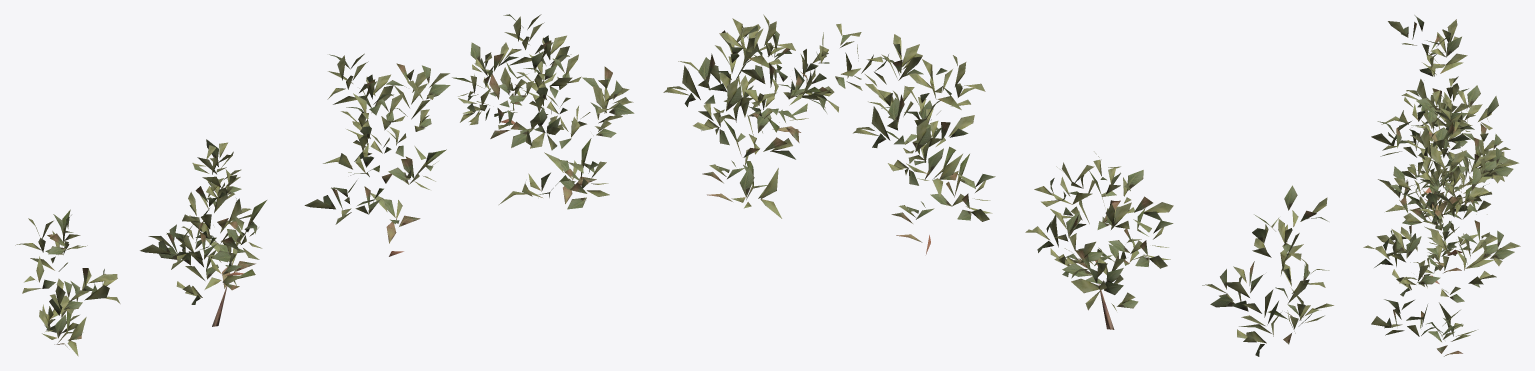
The model's file is shrub_04-low.glb.
The picture shows the model from 3 angles, left to right: view 1: azimuth 30°, elevation 25°; view 2: azimuth 150°, elevation 25°; view 3: azimuth 270°, elevation 25°; orthographic projection. The views are drawn at different scales.
Visible parts, largest first — view 1: shrub_04; view 2: shrub_04; view 3: shrub_04.
Part boxes in pixels (box(x1,y1,x2,y2)): shrub_04: box(15, 14, 634, 356); shrub_04: box(663, 14, 1333, 356); shrub_04: box(1363, 15, 1520, 356).
Size of the model in its own units: 0.5837 by 0.2156 by 0.1461.
1 material, 1 textured.
